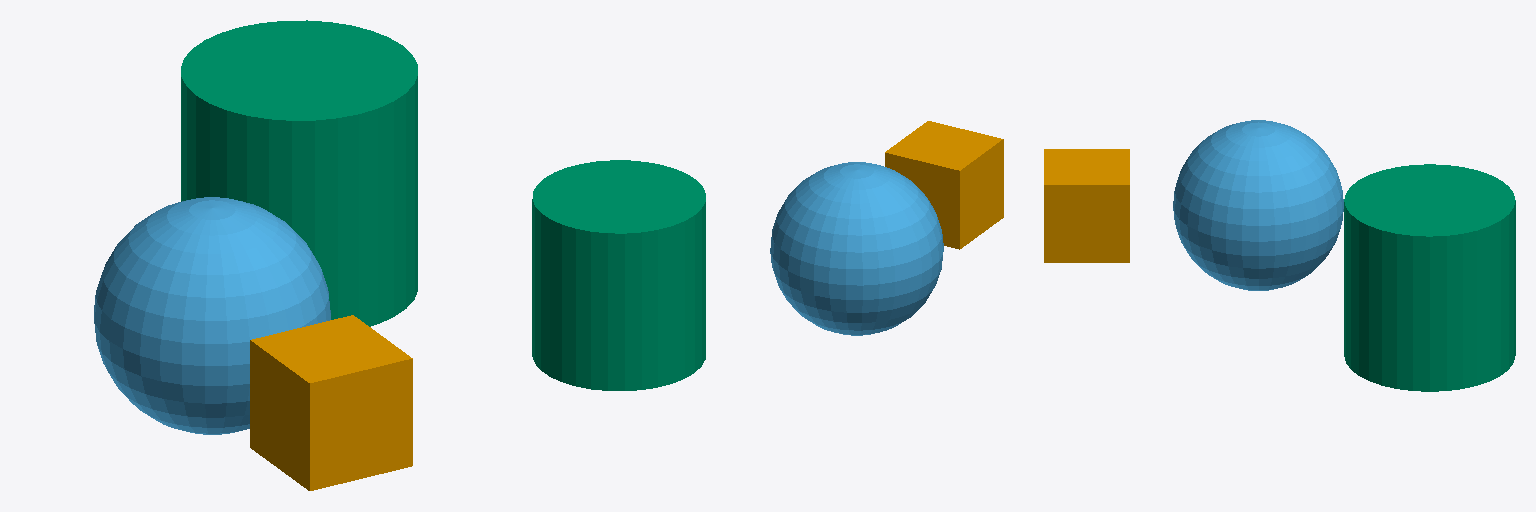
The robot description file, URDF, robot "prim_chain":
<?xml version="1.0" ?>
<robot name="prim_chain">
  <link name="base_box">
    <visual>
      <origin rpy="0 0 0" xyz="0 0 0"/>
      <geometry>
        <box size="0.05 0.05 0.05"/>
      </geometry>
    </visual>
    <collision>
      <origin rpy="0 0 0" xyz="0 0 0"/>
      <geometry>
        <box size="0.05 0.05 0.05"/>
      </geometry>
    </collision>
  </link>
  <joint name="floating_base" type="fixed">
    <origin rpy="0 0 0" xyz="0 0.1 0"/>
    <parent link="base_box"/>
    <child link="link_sphere"/>
  </joint>
  <link name="link_sphere">
    <visual>
      <origin rpy="0 0 0" xyz="0 0 0"/>
      <geometry>
        <sphere radius="0.05"/>
      </geometry>
    </visual>
    <collision>
      <origin rpy="0 0 0" xyz="0.0 0 0"/>
      <geometry>
        <sphere radius="0.05"/>
      </geometry>
    </collision>
  </link>
  <joint name="sphere_to_cylinder" type="revolute">
    <origin rpy="0 0 0" xyz="0 0.1 0"/>
    <parent link="link_sphere"/>
    <child link="link_cylinder"/>
    <axis xyz="1 0 0"/>
    <dynamics damping="0" friction="0"/>
    <limit effort="44.4" lower="-1.2217304764" upper="1.2217304764" velocity="40"/>
  </joint>
  <link name="link_cylinder">
    <visual>
      <origin rpy="0 0 0" xyz="0.1 0 0"/>
      <geometry>
        <cylinder radius="0.05" length="0.1"/>
      </geometry>
    </visual>
    <collision>
      <origin rpy="0 0 0" xyz="0.1 0 0"/>
      <geometry>
        <cylinder radius="0.05" length="0.1"/>
      </geometry>
    </collision>
  </link>
  <joint name="cylinder_to_capsule" type="revolute">
    <origin rpy="0 0 0" xyz="0 0.1 0"/>
    <parent link="link_cylinder"/>
    <child link="link_capsule"/>
    <axis xyz="1 0 0"/>
    <dynamics damping="0" friction="0"/>
    <limit effort="44.4" lower="-1.2217304764" upper="1.2217304764" velocity="40"/>
  </joint>
  <link name="link_capsule">
    <visual>
      <origin rpy="0 0 0" xyz="0 0 0"/>
      <geometry>
        <capsule radius="0.05" length="0.1"/>
      </geometry>
    </visual>
    <collision>
      <origin rpy="0 0 0" xyz="0 0 0"/>
      <geometry>
        <capsule radius="0.05" length="0.1"/>
      </geometry>
    </collision>
  </link>
</robot>

--- Render facts (derived) ---
Views: 3 orthographic renders of the robot side by side, from view 1: azimuth 30°, elevation 25°; view 2: azimuth 150°, elevation 25°; view 3: azimuth 270°, elevation 25°.
Robot: prim_chain — 4 links, 3 joints (2 revolute, 1 fixed); root link base_box; default pose: every joint at zero.
Visible links, largest first — view 1: link_cylinder, link_sphere, base_box; view 2: link_cylinder, link_sphere, base_box; view 3: link_cylinder, link_sphere, base_box.
Boxes of the visible links, x1,y1,x2,y2 form: link_cylinder: [181, 20, 417, 326]; link_sphere: [94, 197, 330, 434]; base_box: [250, 315, 412, 490]; link_cylinder: [532, 160, 705, 390]; link_sphere: [770, 162, 943, 335]; base_box: [885, 121, 1003, 249]; link_cylinder: [1344, 164, 1515, 391]; link_sphere: [1173, 120, 1343, 290]; base_box: [1044, 149, 1129, 262].
Bounding box of the posed robot: 0.2 × 0.275 × 0.1 m (x, y, z).
Geometry: primitives only (box / cylinder / sphere), no mesh files.